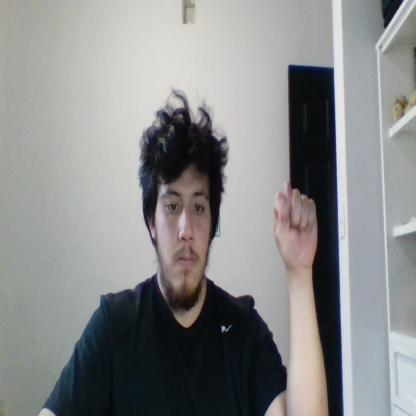T: (272, 178, 318, 270)
